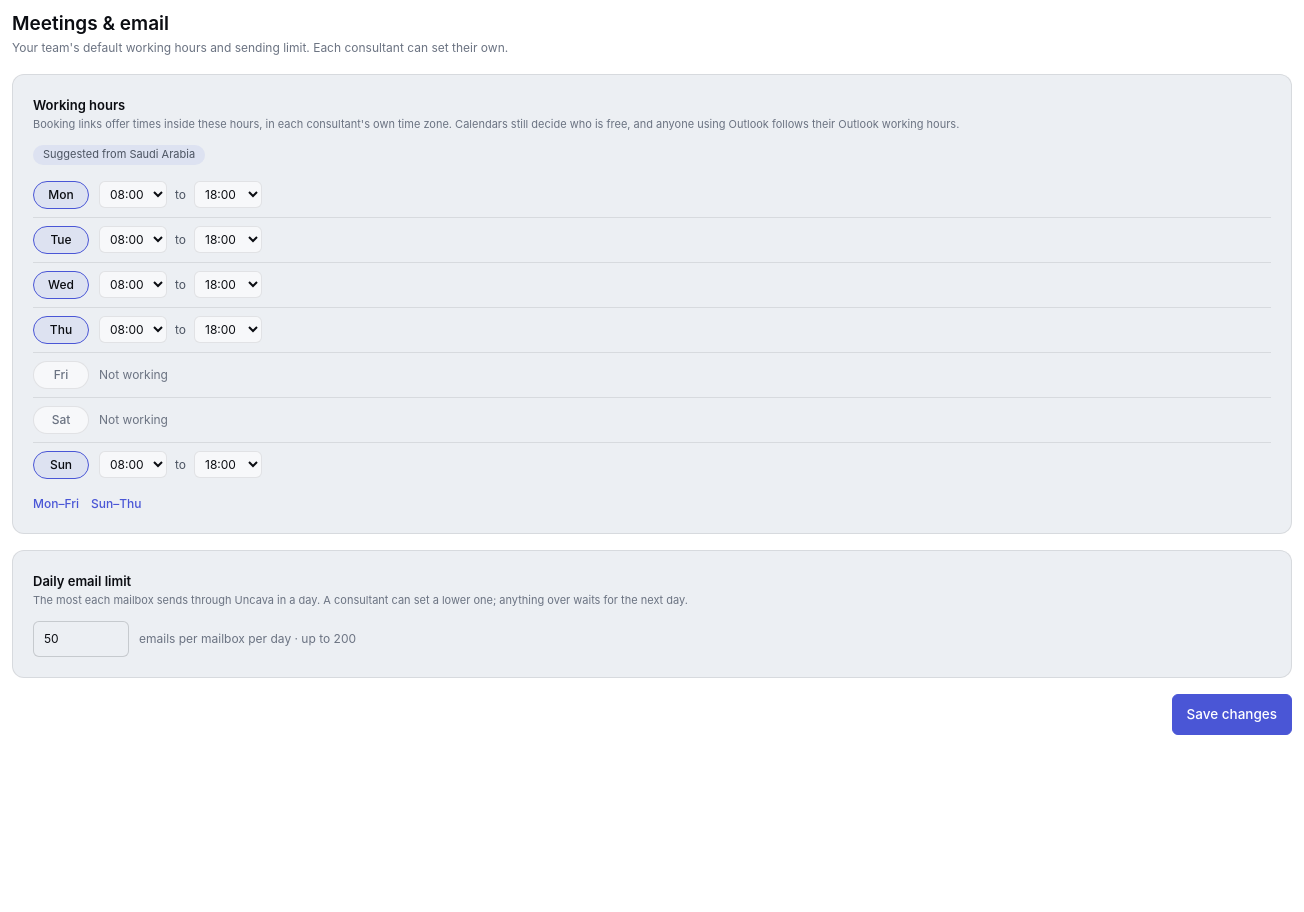
Scenario: SettingsMeetingsPage › saves a short Thursday and a lower cap
This screenshot has width=1304, height=912.
Select "13:00" in the dropdown named "Thu ends" at [228, 330], box x1=194 y1=316 x2=262 y2=343
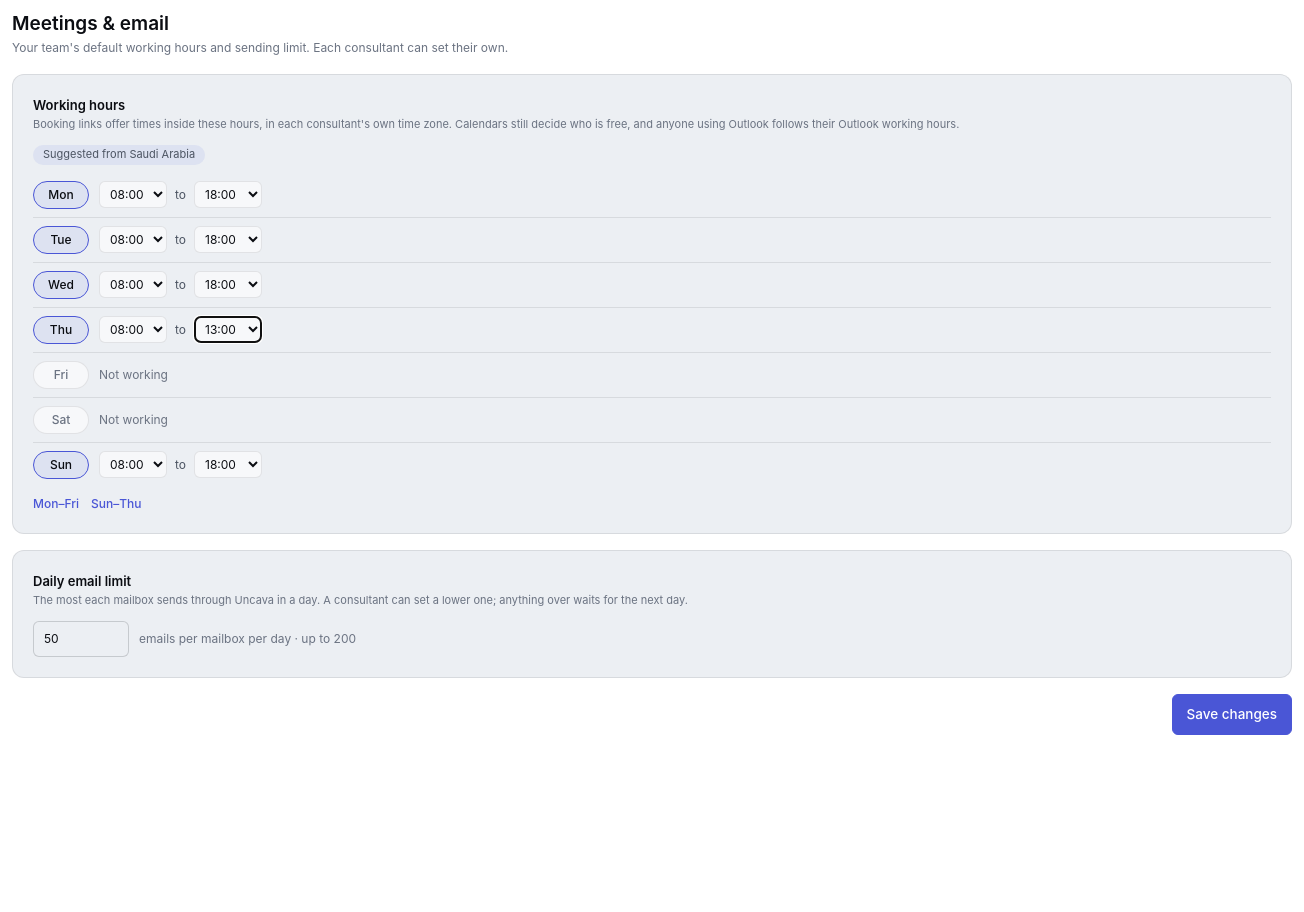
Replace the text in the number field named "Daily email limit" with "30" at [81, 639], box x1=33 y1=621 x2=129 y2=657
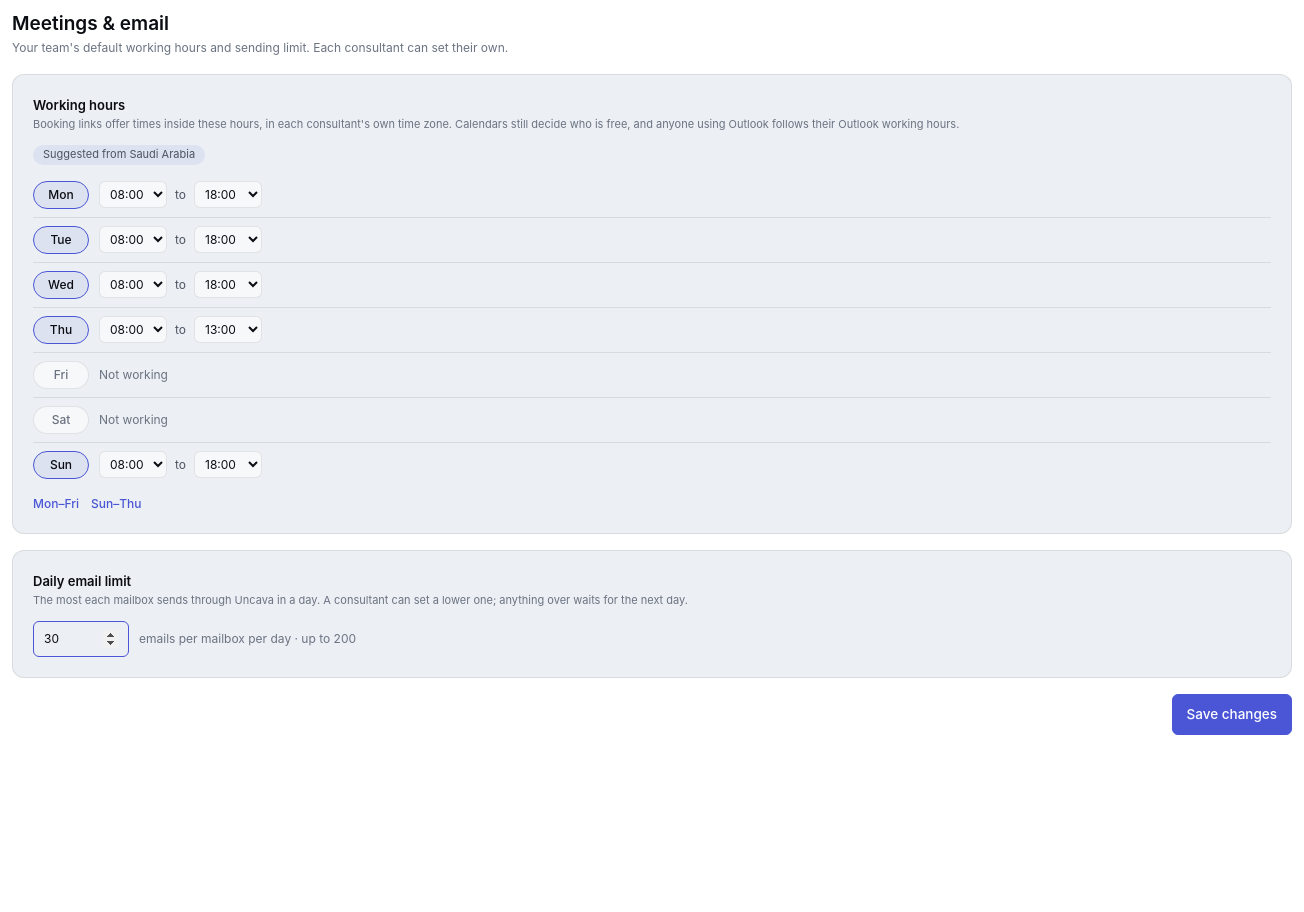
Click the button "Save changes" at [1232, 715], box x1=1172 y1=694 x2=1292 y2=735
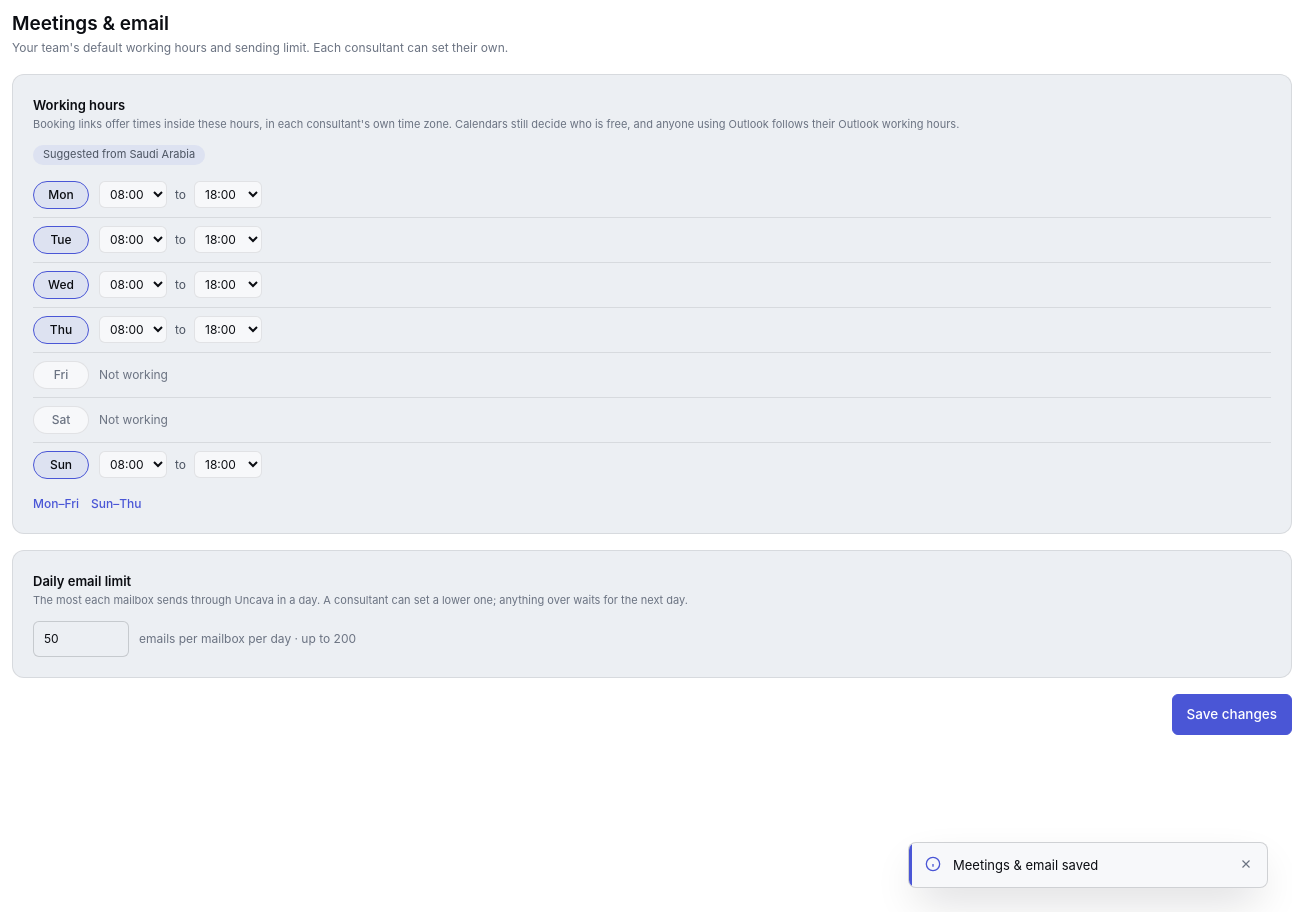
Expected: the text "Meetings & email saved" is shown, x1=953 y1=857 x2=1098 y2=873
